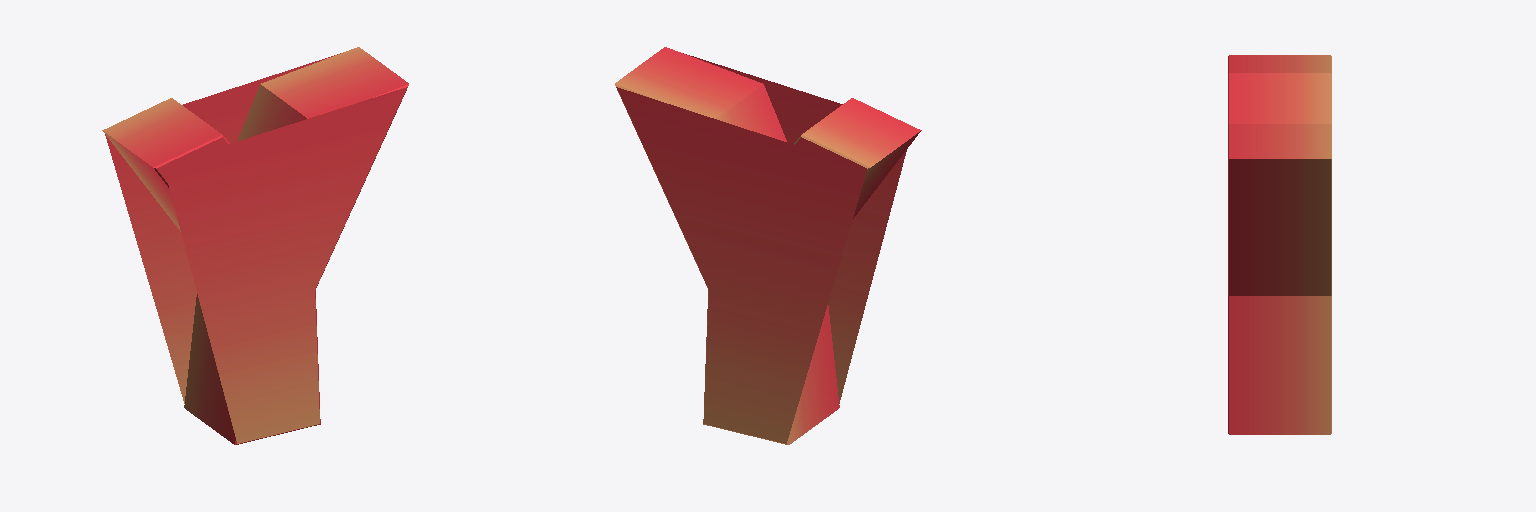
The picture shows the model from 3 angles: view 1: azimuth 30°, elevation 25°; view 2: azimuth 150°, elevation 25°; view 3: azimuth 270°, elevation 25°; orthographic projection.
Parts seen in each view (by area): view 1: polySurface26; view 2: polySurface26; view 3: polySurface26.
Part boxes in pixels (left/top/right/bottom): polySurface26: left=102, top=47, right=408, bottom=444; polySurface26: left=615, top=47, right=921, bottom=444; polySurface26: left=1228, top=55, right=1331, bottom=434.
Size of the model in its own units: 1.86 by 2.21 by 0.6578.
1 materials, 1 textured.